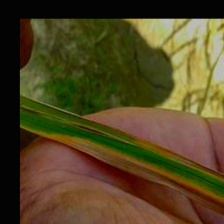Leaf_Blast: (35, 93, 222, 208)
